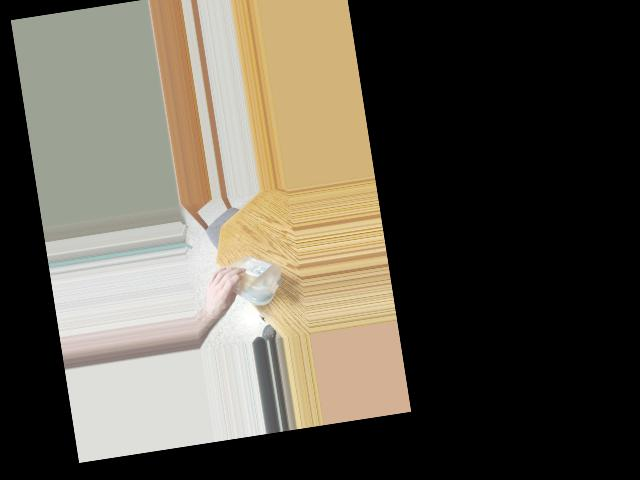cheese: (214, 248, 287, 310)
